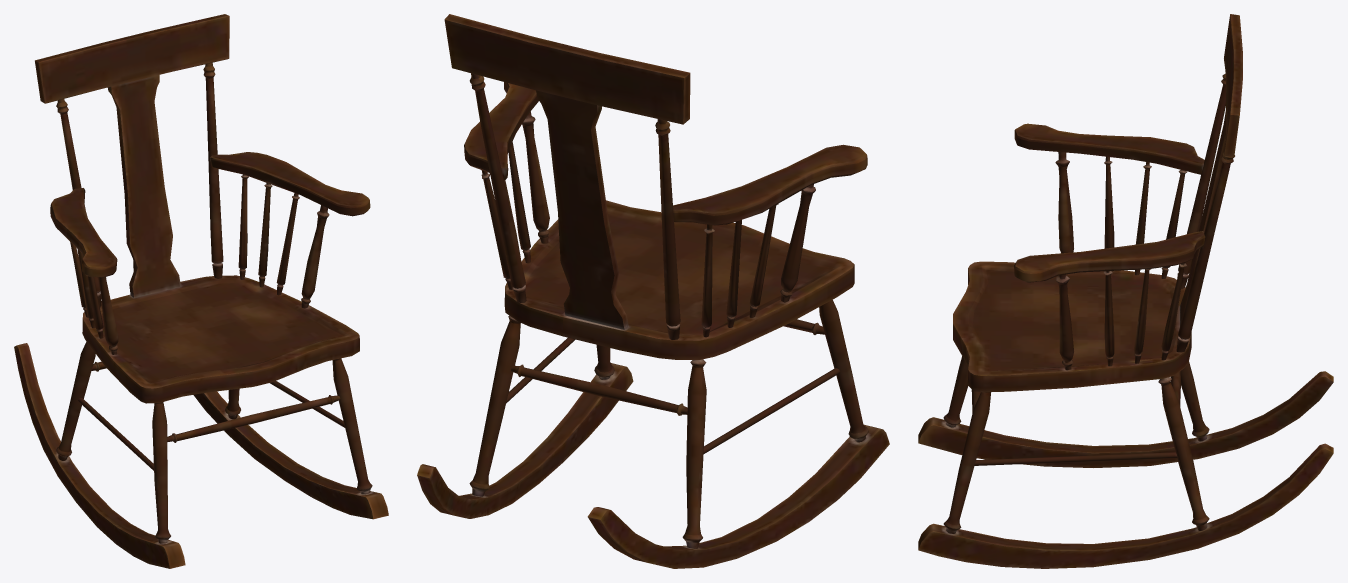
Rendered from Rockingchair_01.glb.
The picture shows the model from 3 angles, left to right: view 1: azimuth 30°, elevation 25°; view 2: azimuth 150°, elevation 25°; view 3: azimuth 270°, elevation 25°; orthographic projection. The views are drawn at different scales.
Visible parts, largest first — view 1: Rockingchair_01; view 2: Rockingchair_01; view 3: Rockingchair_01.
Part boxes in pixels (bbox=[...]): Rockingchair_01: bbox=[14, 14, 388, 568]; Rockingchair_01: bbox=[417, 14, 889, 568]; Rockingchair_01: bbox=[918, 14, 1333, 568].
Bounding box in the file's own units: 0.7081 × 0.9949 × 0.8335.
1 material, 1 textured.
